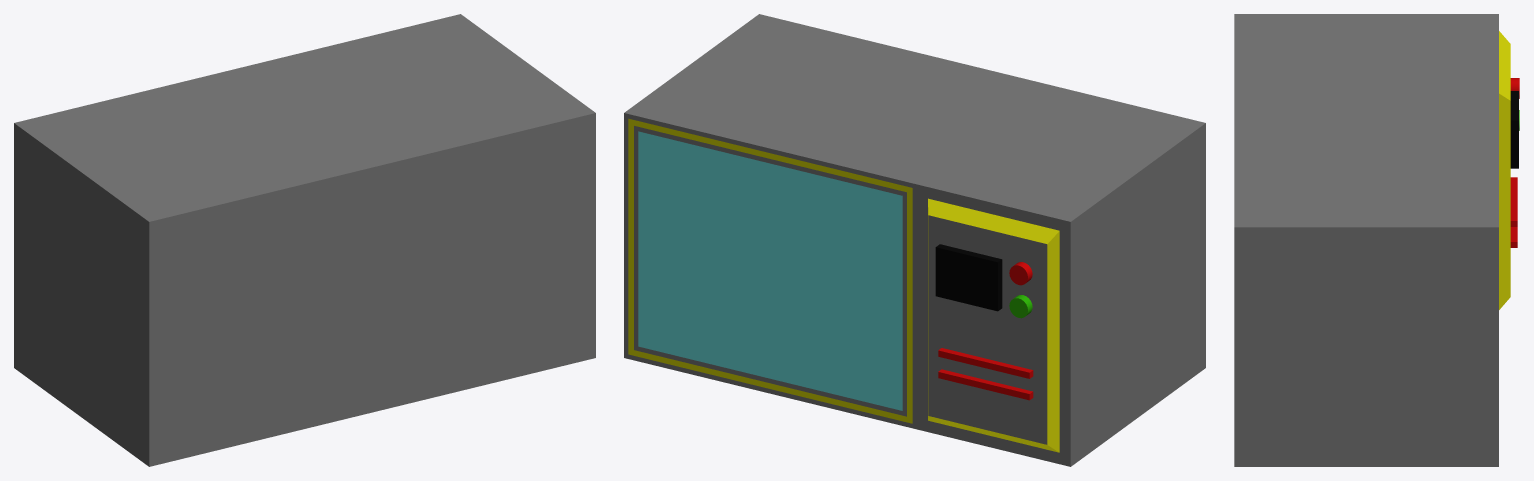
File: bakery.fbx
The picture shows the model from 3 angles, left to right: view 1: azimuth 30°, elevation 25°; view 2: azimuth 150°, elevation 25°; view 3: azimuth 270°, elevation 25°; orthographic projection. The views are drawn at different scales.
Visible parts, largest first — view 1: bakery; view 2: bakery; view 3: bakery.
Boxes of the visible parts, x1,y1,x2,y2 form: bakery: (14,14,595,466); bakery: (624,14,1205,466); bakery: (1234,14,1519,466).
Size of the model in its own units: 204 by 107 by 115.
